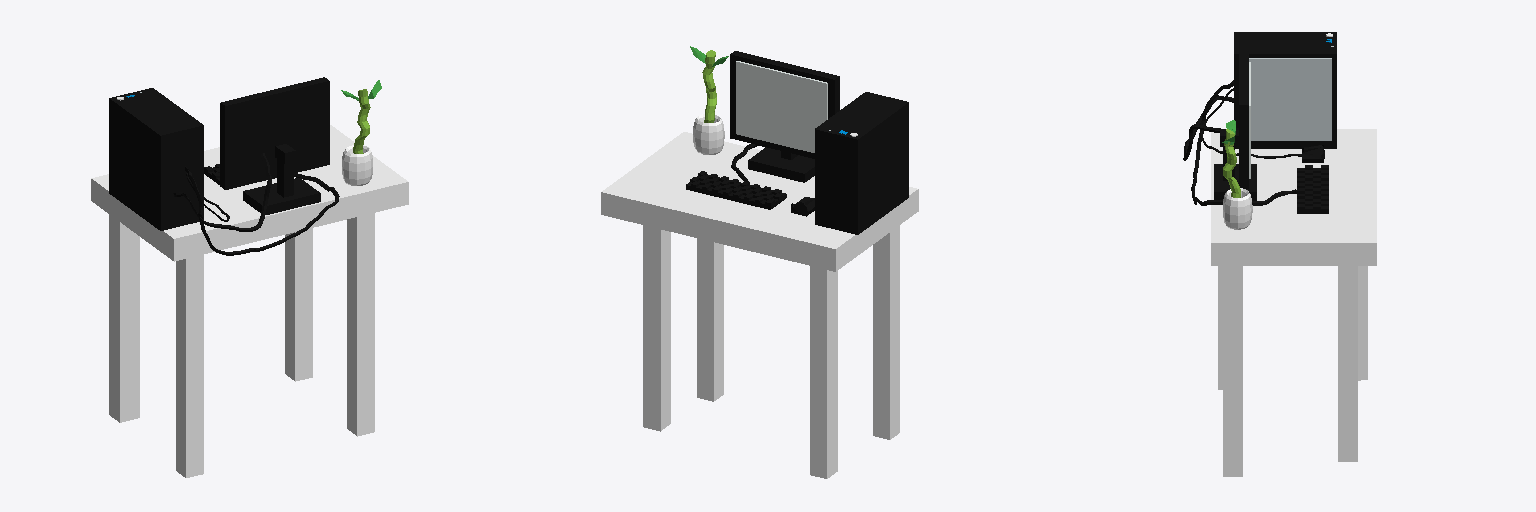
Rendered from desk.obj.
3 views of the same model, side by side, from view 1: azimuth 30°, elevation 25°; view 2: azimuth 150°, elevation 25°; view 3: azimuth 270°, elevation 25° (orthographic).
Parts seen in each view (by area): view 1: group[number redacted], group[number redacted], group[number redacted], group[number redacted], group[number redacted], group[number redacted], group[number redacted], group[number redacted], group[number redacted], group[number redacted], group[number redacted], group[number redacted] (+2 smaller); view 2: group[number redacted], group[number redacted], group[number redacted], group[number redacted], group[number redacted], group[number redacted], group[number redacted], group[number redacted], group[number redacted], group[number redacted], group[number redacted], group[number redacted] (+1 smaller); view 3: group[number redacted], group[number redacted], group[number redacted], group[number redacted], group[number redacted], group[number redacted], group[number redacted], group[number redacted], group[number redacted], group[number redacted], group[number redacted], group[number redacted] (+2 smaller).
Part boxes in pixels (x1,y1,x2,y2): group[number redacted]: (91, 125, 408, 261); group[number redacted]: (220, 77, 329, 189); group[number redacted]: (176, 255, 203, 477); group[number redacted]: (347, 213, 374, 436); group[number redacted]: (109, 214, 139, 422); group[number redacted]: (109, 100, 203, 230); group[number redacted]: (109, 88, 203, 230); group[number redacted]: (285, 228, 312, 381); group[number redacted]: (243, 178, 320, 214); group[number redacted]: (185, 166, 339, 255); group[number redacted]: (342, 145, 372, 185); group[number redacted]: (173, 153, 271, 231); group[number redacted]: (601, 132, 918, 271); group[number redacted]: (815, 92, 908, 234); group[number redacted]: (736, 61, 827, 152); group[number redacted]: (810, 266, 837, 478); group[number redacted]: (643, 225, 670, 431); group[number redacted]: (873, 225, 899, 439); group[number redacted]: (697, 238, 723, 401); group[number redacted]: (730, 51, 839, 158); group[number redacted]: (686, 171, 786, 209); group[number redacted]: (748, 147, 814, 182); group[number redacted]: (693, 114, 724, 154); group[number redacted]: (815, 103, 908, 215); group[number redacted]: (1211, 129, 1376, 265); group[number redacted]: (1249, 58, 1331, 140); group[number redacted]: (1223, 266, 1242, 476); group[number redacted]: (1338, 266, 1357, 461); group[number redacted]: (1234, 32, 1336, 57); group[number redacted]: (1234, 54, 1336, 148); group[number redacted]: (1297, 165, 1328, 213); group[number redacted]: (1239, 54, 1248, 188); group[number redacted]: (1358, 266, 1367, 380); group[number redacted]: (1223, 188, 1252, 229); group[number redacted]: (1191, 80, 1296, 205); group[number redacted]: (1214, 164, 1256, 200).
Bounding box in the file's own units: 1.09 × 1.56 × 0.7726.